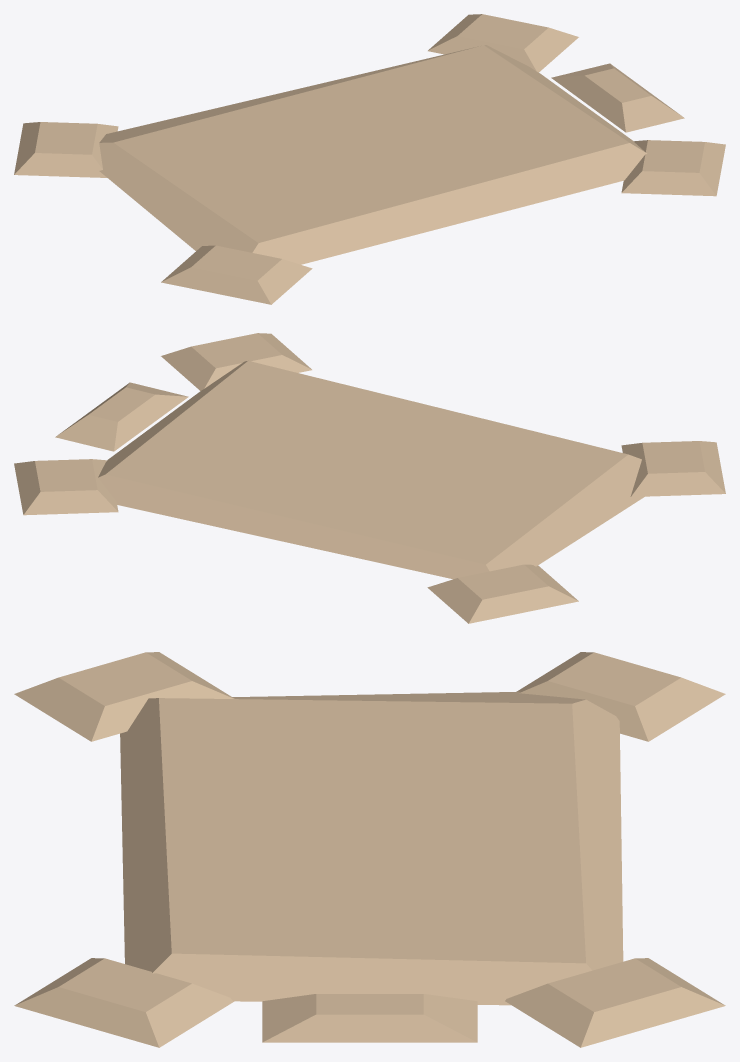
The model's file is item_012_cured_hide_s.glb.
3 renders of one model, top to bottom at view 1: azimuth 30°, elevation 25°; view 2: azimuth 150°, elevation 25°; view 3: azimuth 270°, elevation 25°, orthographic. The views are drawn at different scales.
Visible parts, largest first — view 1: item_012_cured_hide_s; view 2: item_012_cured_hide_s; view 3: item_012_cured_hide_s.
Part boxes in pixels (x1,y1,x2,y2): item_012_cured_hide_s: [14, 14, 725, 304]; item_012_cured_hide_s: [14, 333, 725, 623]; item_012_cured_hide_s: [14, 652, 725, 1047].
Bounding box in the file's own units: 0.9572 × 0.0406 × 0.7276.
